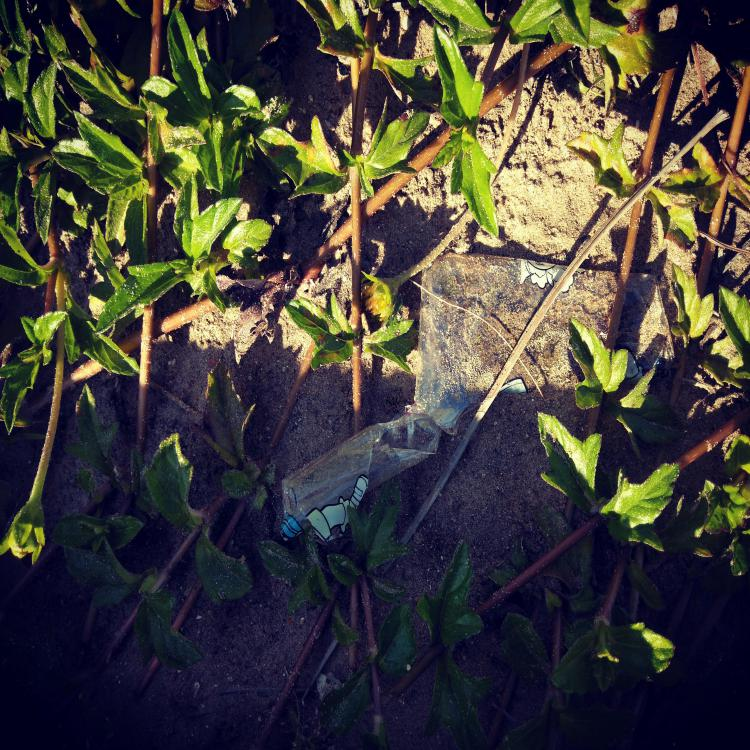Plastic film: (280, 250, 674, 543)
